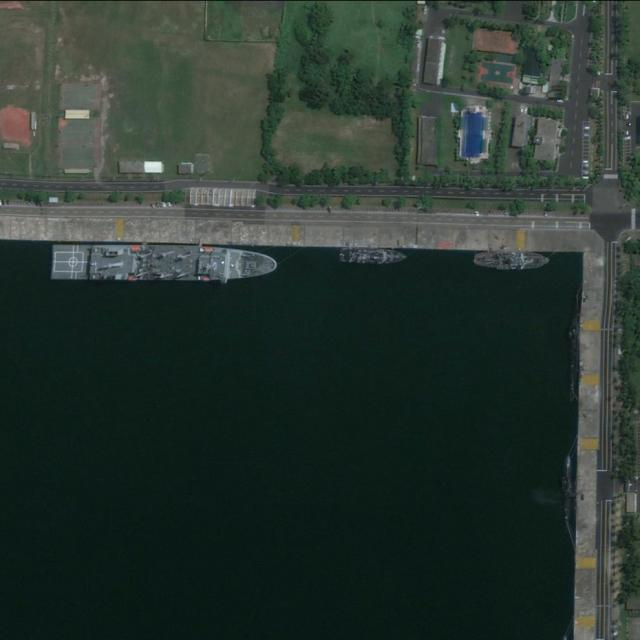Commander: (49, 243, 279, 282)
Other Warship: (473, 251, 551, 270), (339, 248, 407, 264)
Submarine: (569, 286, 580, 398), (562, 455, 569, 529)
